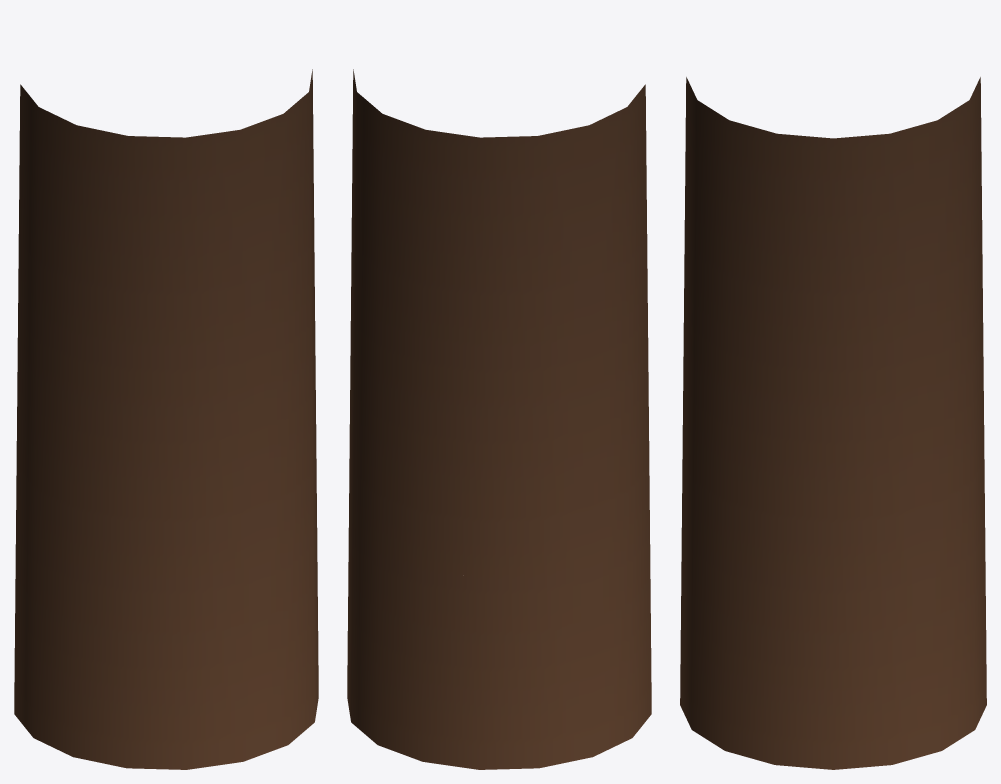
File: PRP_Barrel.glb
3 views of the same model, side by side, from view 1: azimuth 30°, elevation 25°; view 2: azimuth 150°, elevation 25°; view 3: azimuth 270°, elevation 25° (orthographic).
Parts seen in each view (by area): view 1: PRP_Barrel; view 2: PRP_Barrel; view 3: PRP_Barrel.
Part boxes in pixels (x1,y1,x2,y2): PRP_Barrel: (14,69,318,769); PRP_Barrel: (347,69,651,769); PRP_Barrel: (680,77,986,769).
Size of the model in its own units: 0.42 by 0.95 by 0.42.
1 material, 1 textured.
